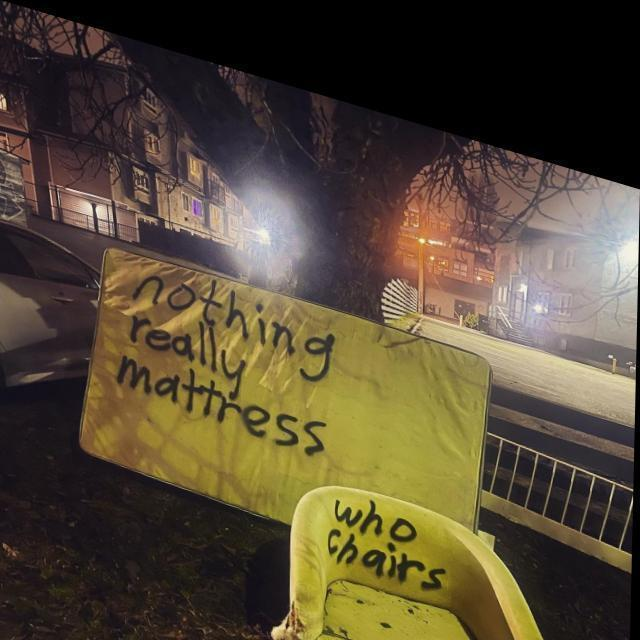nonspitting: (114, 273, 335, 457), (326, 498, 446, 593)
